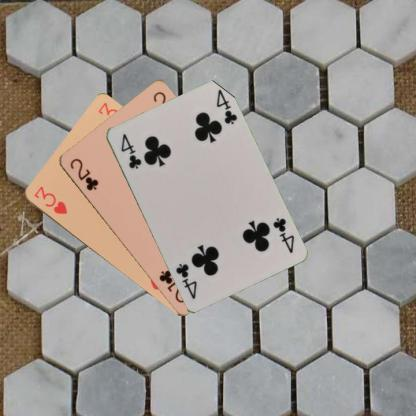2c: (67, 156, 100, 192)
3h: (31, 183, 68, 216)
4c: (270, 214, 295, 255), (118, 130, 143, 170)
